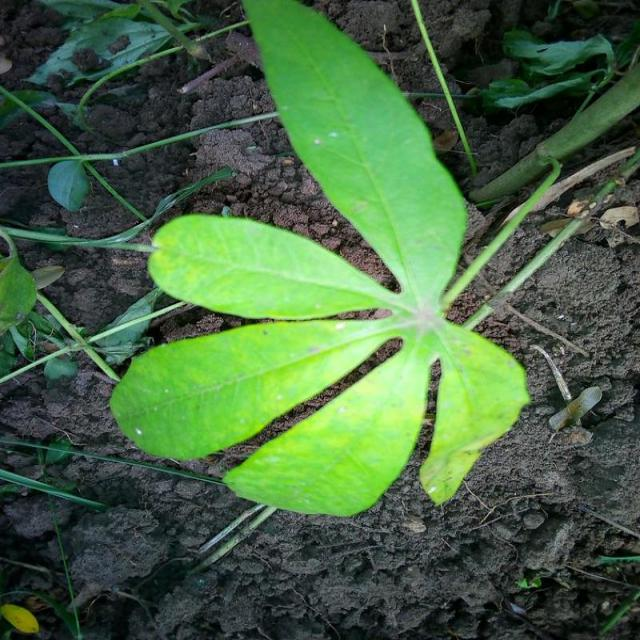cassava leaf: (107, 0, 631, 518), (239, 0, 468, 308), (108, 313, 404, 462), (221, 330, 432, 517), (146, 211, 402, 320)
